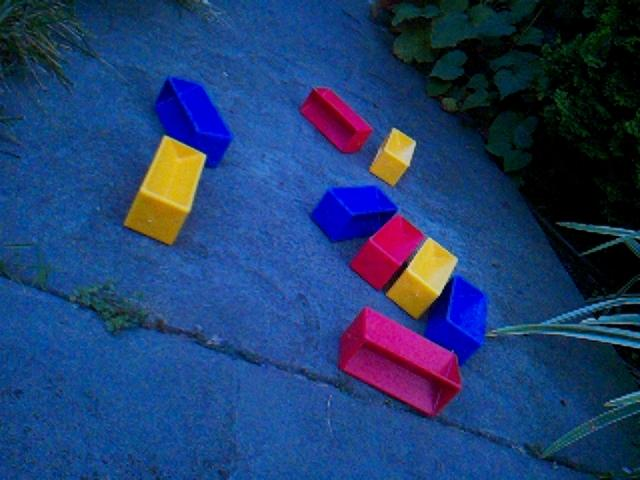blue: (153, 74, 234, 169), (424, 274, 489, 366), (310, 183, 399, 243)
red: (337, 305, 464, 418), (349, 213, 426, 291), (299, 85, 374, 155)
yellow: (123, 134, 208, 247), (385, 236, 459, 320), (369, 126, 417, 187)
